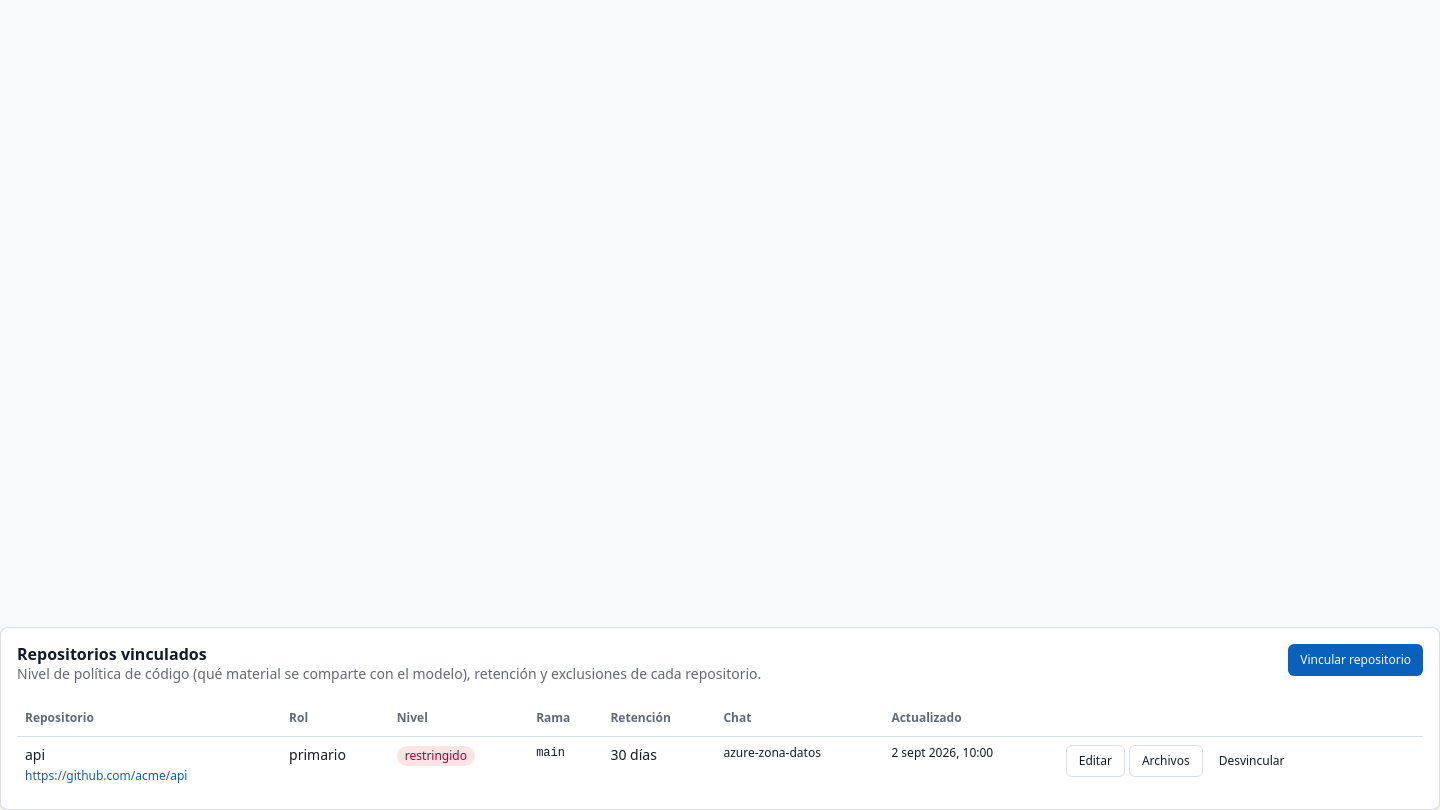
archivos del repositorio › un archivo inválido que rechaza el servidor (422) muestra sus líneas y no abre PR
The image size is (1440, 810).
(page scrolled)
Click the button "Archivos" at {"x": 1166, "y": 760}, box [1129,744,1203,776]
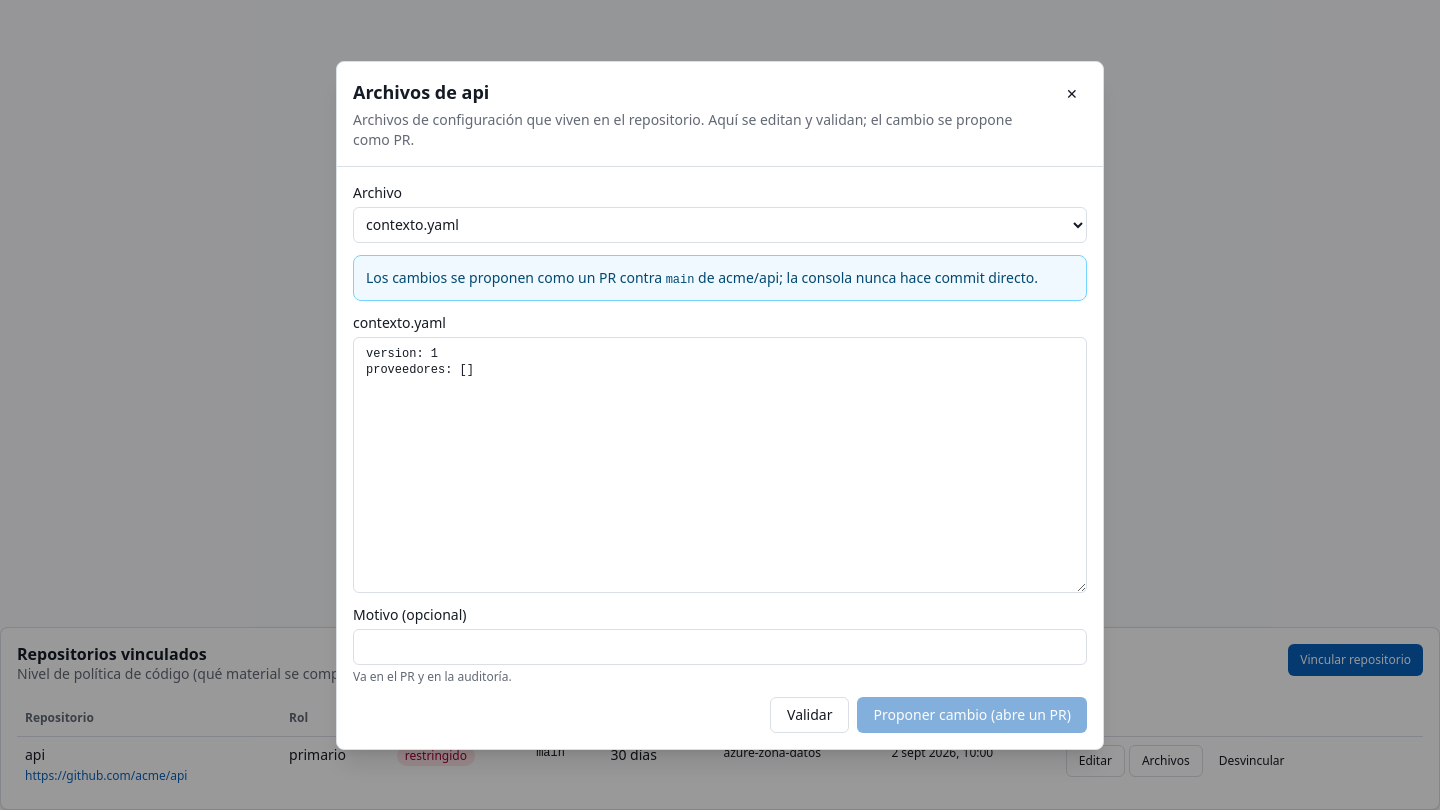
Check: the text "se proponen como un PR" is shown, box [366,268,666,286]
Type "version: 2" into the text box labelled "contexto.yaml" at {"x": 720, "y": 464}, box [353,336,1087,592]
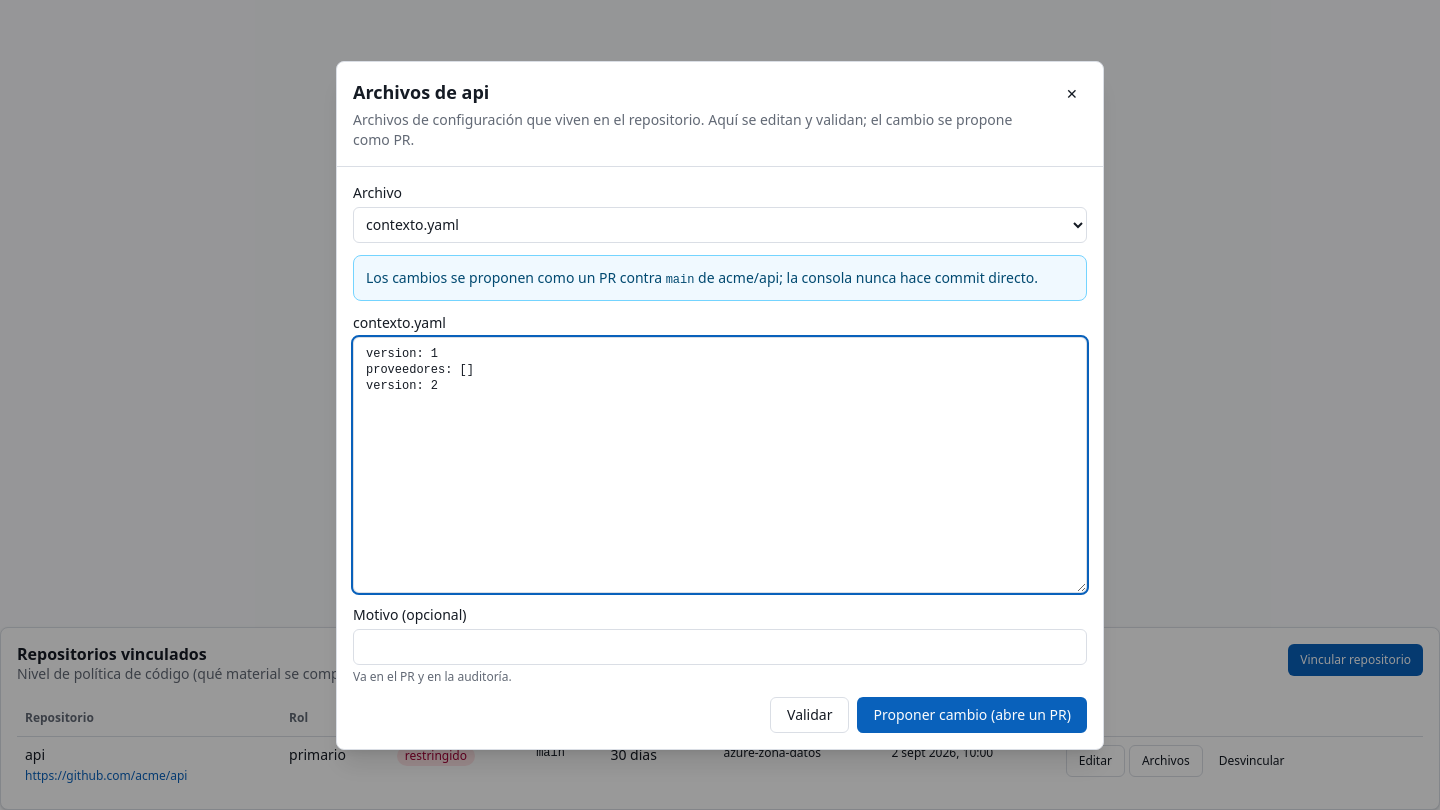
Click the button "Proponer cambio (abre un PR)" at {"x": 972, "y": 714}, box [858,696,1087,732]
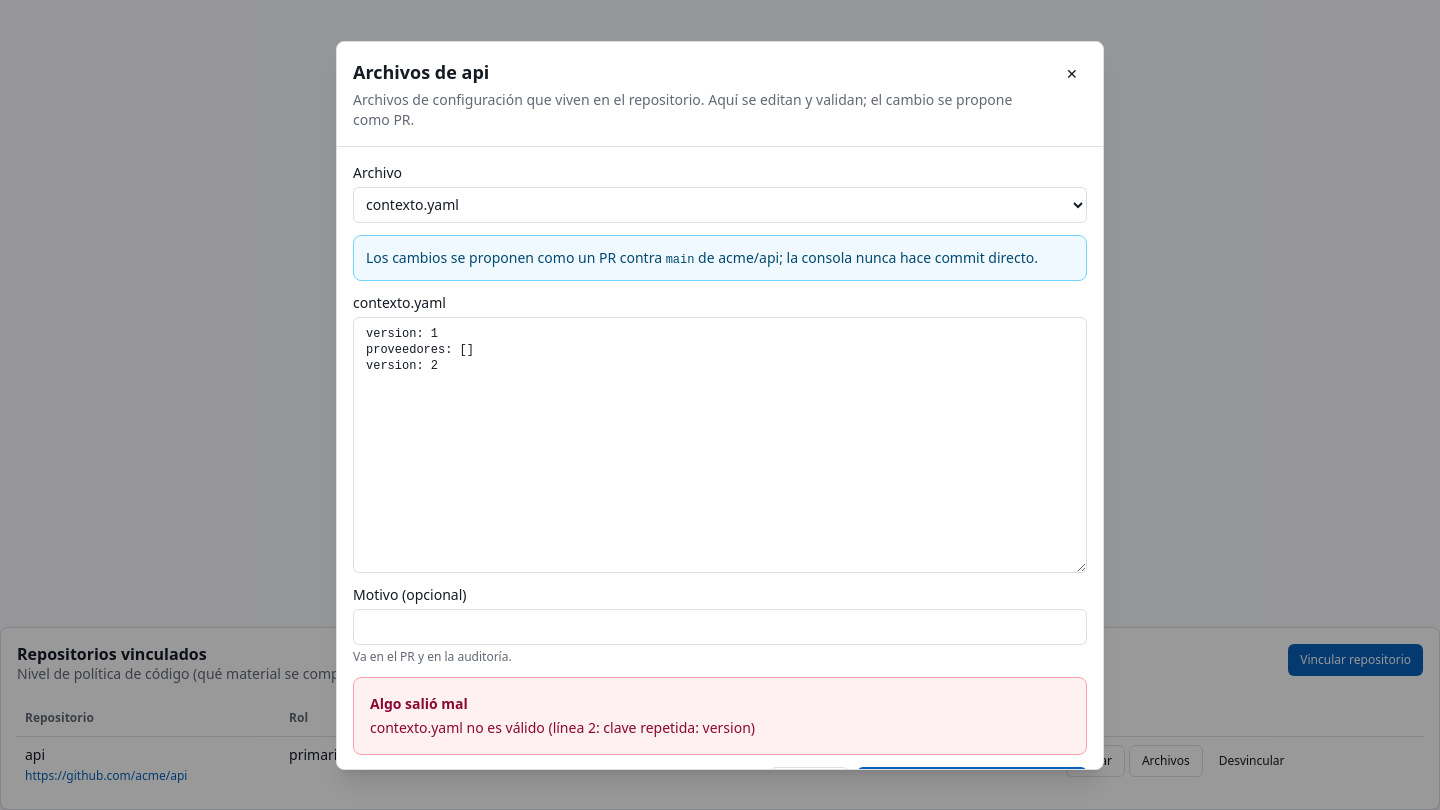
Check: the text "línea 2: clave repetida: version" is shown, box [370,718,755,736]
